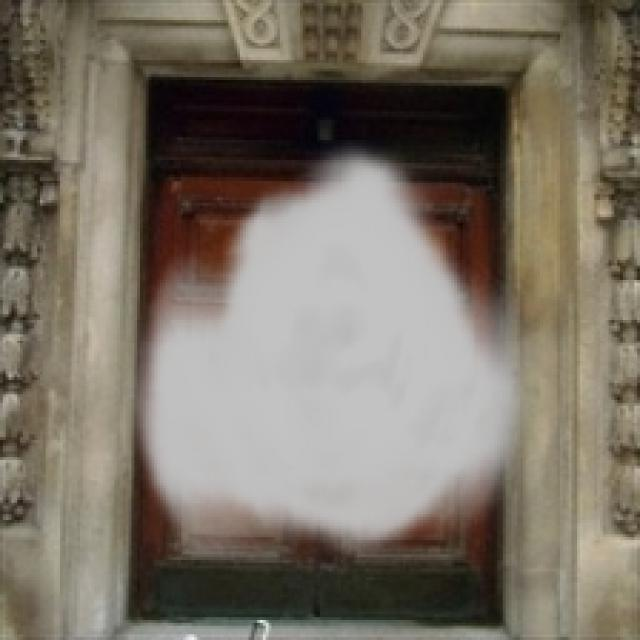smoke: (128, 140, 543, 557)
